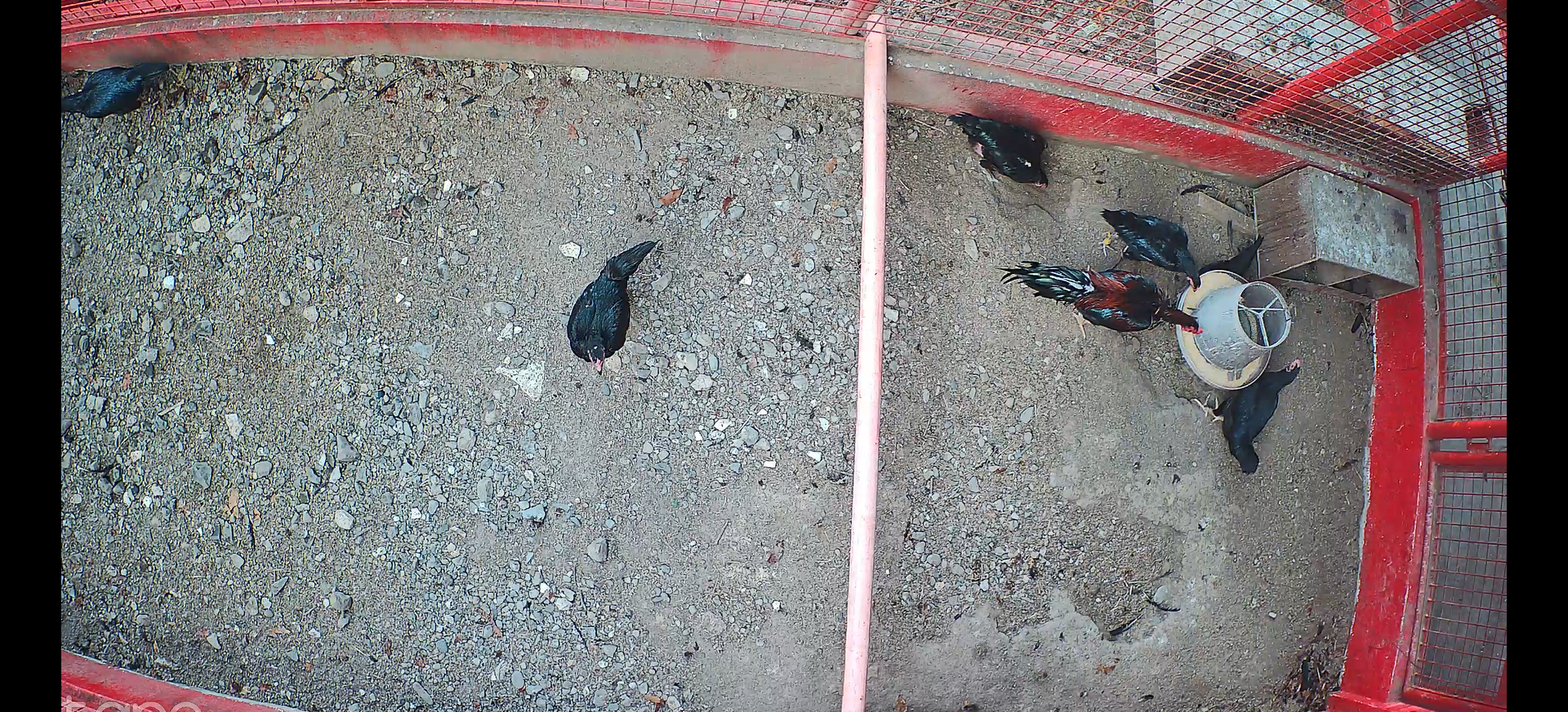Chicken: (1194, 356, 1301, 474), (566, 237, 657, 374), (1090, 205, 1202, 293), (948, 113, 1049, 191), (61, 49, 166, 121), (1197, 233, 1266, 279)
Feeder: (1171, 267, 1294, 391)
Rooster: (994, 260, 1201, 346)
